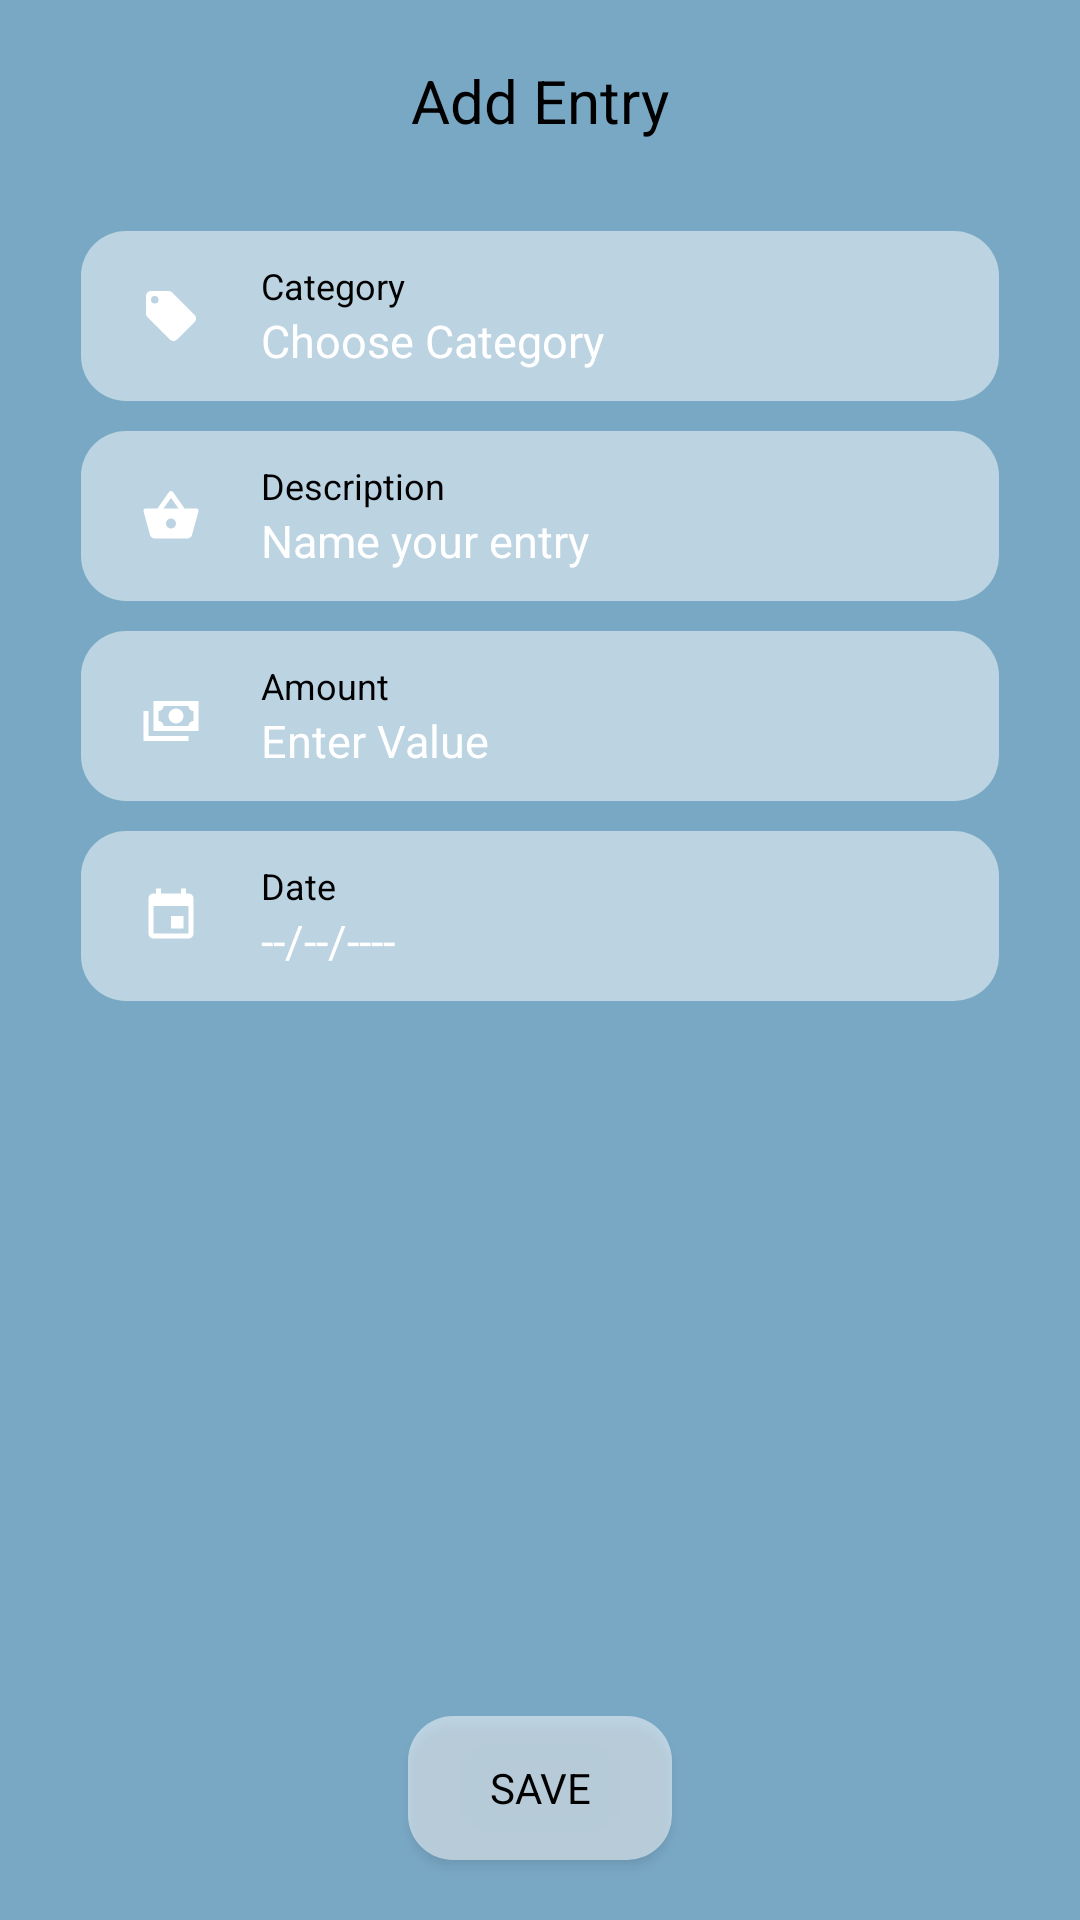

Point at icon controls on the screen. Image size 1080px×1920px, points as [x,y].
basket: [171,515]
calendar: [171,913]
cash: [171,721]
tag: [171,316]
